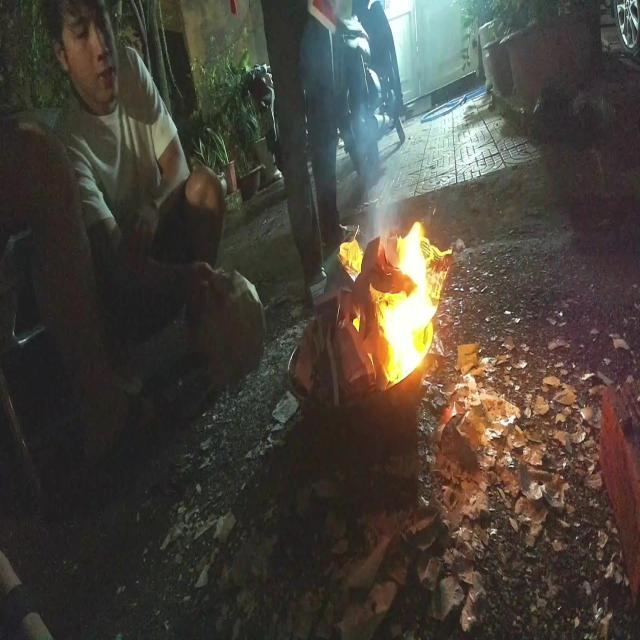Fire: (343, 209, 438, 394)
Smoke: (350, 100, 400, 248)
